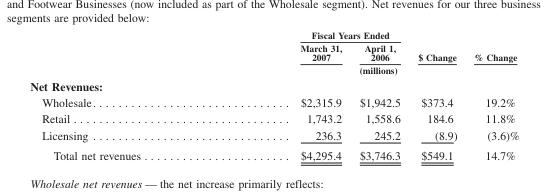table: (29, 29, 518, 161)
table column: (29, 29, 219, 161), (219, 29, 350, 161), (350, 29, 408, 161), (408, 29, 464, 161), (464, 29, 518, 161)
table column header: (29, 29, 518, 77)
table projected row header: (29, 77, 518, 93)
table row: (29, 41, 518, 63), (29, 126, 518, 144), (29, 93, 518, 110), (29, 144, 518, 161), (29, 77, 518, 93), (29, 110, 518, 126), (29, 63, 518, 77), (29, 29, 518, 41)
table spanning cell: (219, 63, 464, 77), (464, 29, 518, 77), (219, 29, 408, 41), (408, 29, 464, 63)
